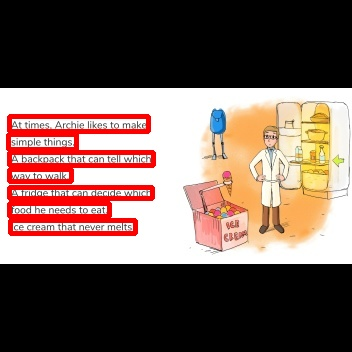latin: (9, 116, 148, 131), (9, 152, 153, 165), (10, 220, 135, 233), (9, 187, 152, 198), (9, 203, 109, 216), (8, 134, 76, 149), (9, 169, 71, 181)
